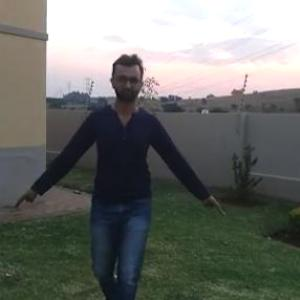land: (34, 65, 199, 287)
